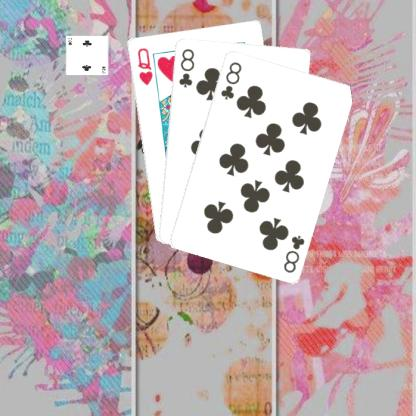8C: (218, 58, 243, 101), (281, 232, 306, 274), (176, 45, 195, 89)
QH: (134, 45, 154, 86)
